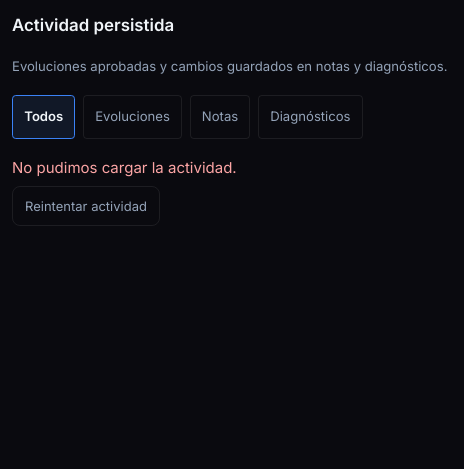
preserves events on page failure and retries the same cursor; initial failure is never empty
Expected: the message "No pudimos cargar la actividad. Reintentar actividad" is shown, x1=12 y1=158 x2=237 y2=226
Step 1. Click the button "Reintentar actividad" → (86, 206), box x1=12 y1=186 x2=160 y2=226
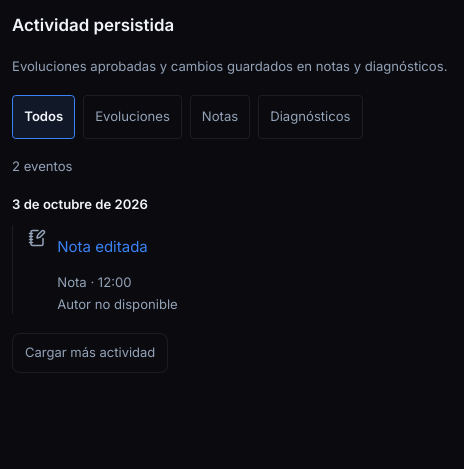
Expected: the link "Nota editada" is shown, x1=57 y1=237 x2=148 y2=256
Step 2. Click the button "Cargar más actividad" → (90, 352), box x1=12 y1=332 x2=168 y2=372
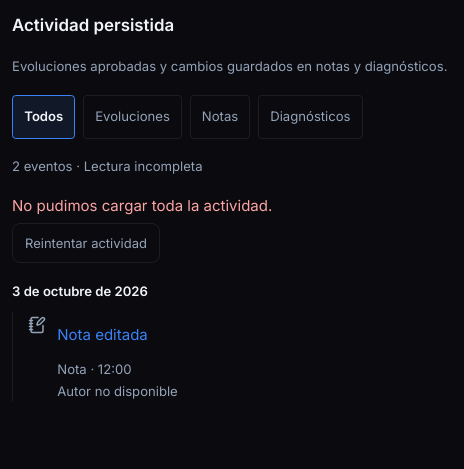
Expected: the text "Fin de la actividad" is not shown
Expected: the number of links is 1, x1=57 y1=324 x2=148 y2=344
Expected: the message "No pudimos cargar toda la actividad. Reintentar actividad" is shown, x1=12 y1=196 x2=272 y2=263
Step 3. Click the button "Reintentar actividad" → (86, 243), box x1=12 y1=223 x2=160 y2=263
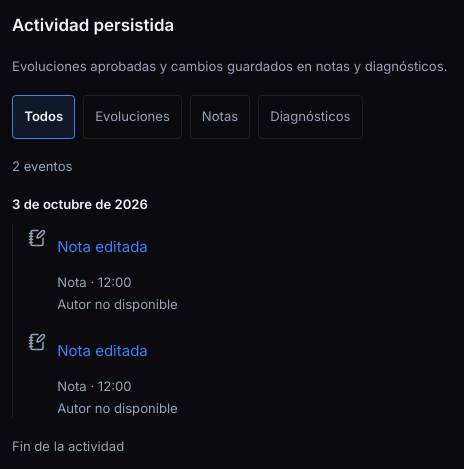
Expected: the number of links is 2, x1=57 y1=237 x2=148 y2=256; x1=57 y1=341 x2=148 y2=360
